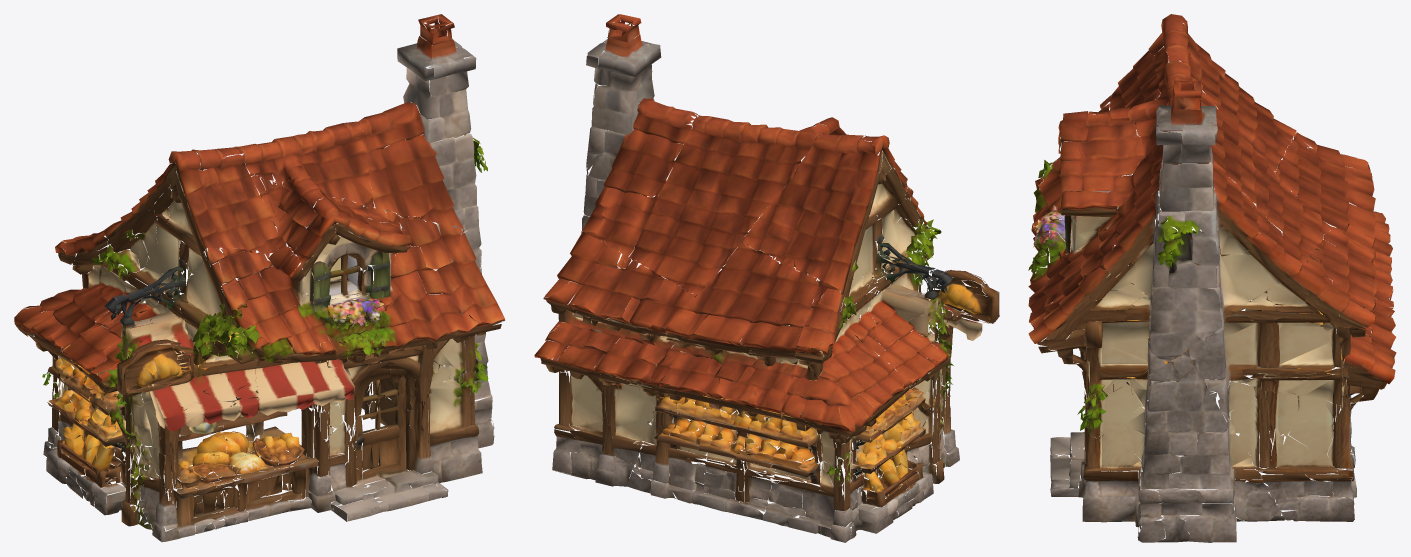
File: bakery.glb
3 views of the same model, side by side, from view 1: azimuth 30°, elevation 25°; view 2: azimuth 150°, elevation 25°; view 3: azimuth 270°, elevation 25° (orthographic). The views are drawn at different scales.
Visible parts, largest first — view 1: tripo_node_15ec515c-aa49-4d68-a427-8e7a61bb75b3; view 2: tripo_node_15ec515c-aa49-4d68-a427-8e7a61bb75b3; view 3: tripo_node_15ec515c-aa49-4d68-a427-8e7a61bb75b3.
Part boxes in pixels (<box>): tripo_node_15ec515c-aa49-4d68-a427-8e7a61bb75b3: <box>14,14,504,542</box>; tripo_node_15ec515c-aa49-4d68-a427-8e7a61bb75b3: <box>534,14,999,542</box>; tripo_node_15ec515c-aa49-4d68-a427-8e7a61bb75b3: <box>1028,14,1396,542</box>.
Bounding box in the file's own units: 4.39 × 4.41 × 3.35.
Materials: 1 (1 with a texture image).
